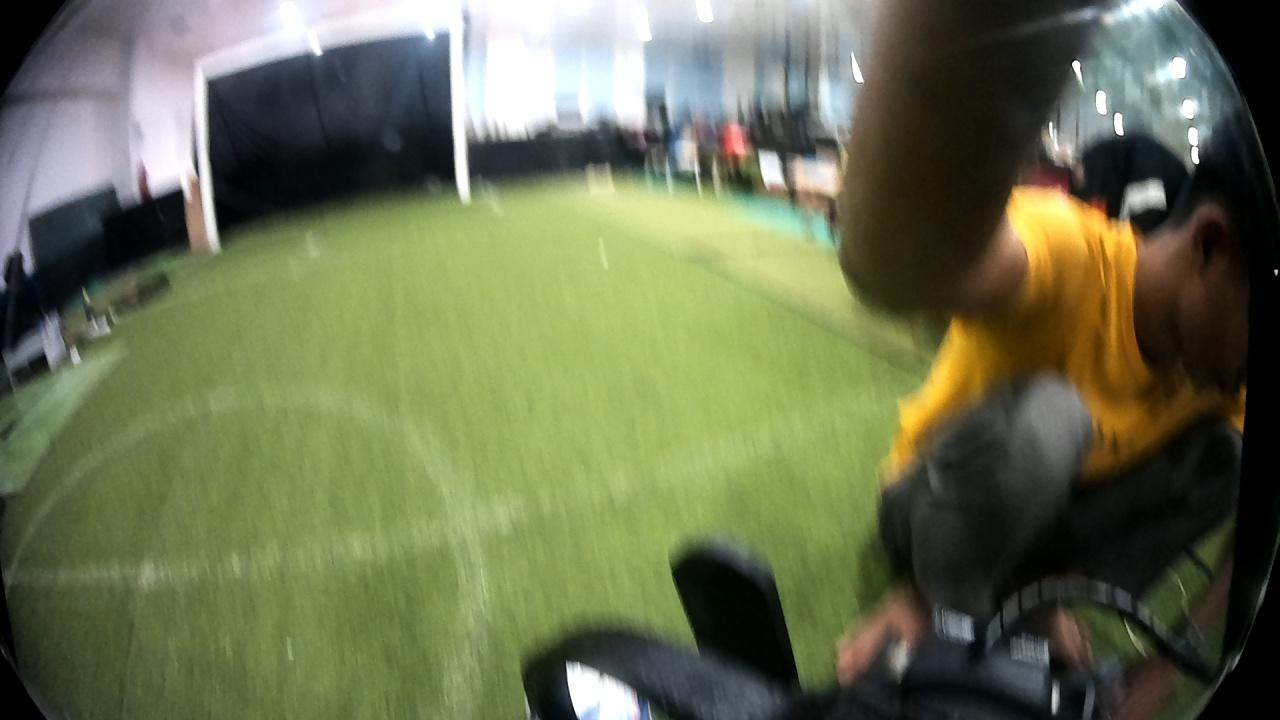ball: (559, 652, 649, 719)
